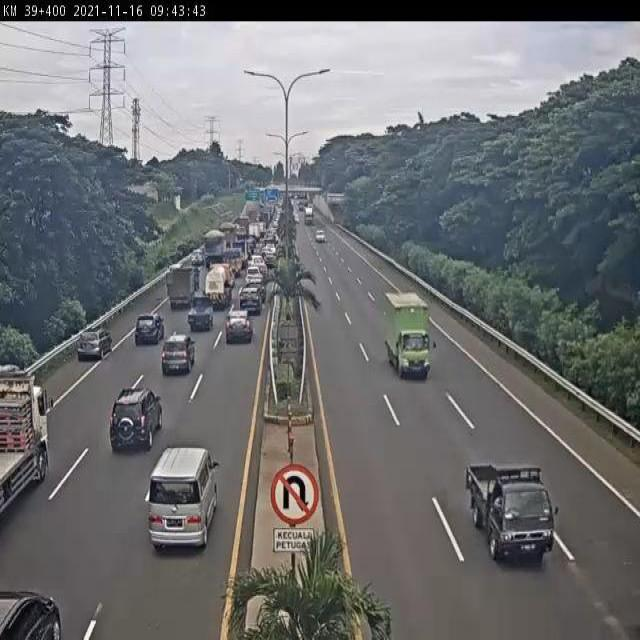car: (464, 453, 561, 567), (146, 446, 223, 554), (105, 385, 173, 468), (156, 332, 195, 383), (73, 327, 119, 368), (222, 304, 256, 348), (130, 311, 162, 352), (183, 295, 213, 337), (237, 289, 263, 319), (244, 275, 267, 304), (186, 242, 207, 266), (244, 265, 264, 288), (251, 253, 266, 272), (264, 251, 278, 268)
small truck: (382, 287, 435, 377), (157, 266, 196, 322), (220, 248, 244, 280)
truck-l-: (0, 363, 57, 540)
truck-m-: (203, 263, 234, 313), (198, 232, 226, 276), (216, 219, 236, 248)
